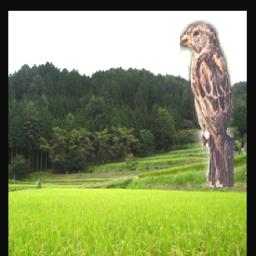Sparrow: (180, 20, 234, 187)
